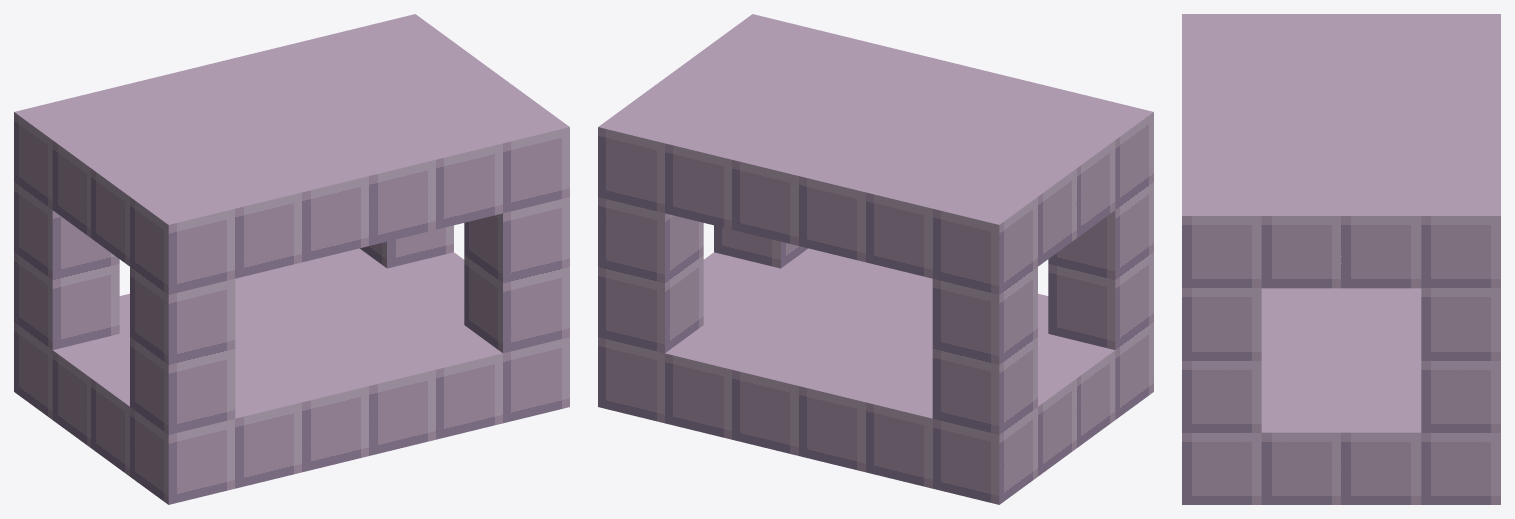
File: int_parlor_passageao.fezao.glb
3 views of the same model, side by side, from view 1: azimuth 30°, elevation 25°; view 2: azimuth 150°, elevation 25°; view 3: azimuth 270°, elevation 25° (orthographic). The views are drawn at different scales.
Parts seen in each view (by area): view 1: INT_PARLOR_PASSAGEAO; view 2: INT_PARLOR_PASSAGEAO; view 3: INT_PARLOR_PASSAGEAO.
Boxes of the visible parts, box(x1,y1,x2,y2) form: INT_PARLOR_PASSAGEAO: box(14, 14, 569, 504); INT_PARLOR_PASSAGEAO: box(598, 14, 1153, 504); INT_PARLOR_PASSAGEAO: box(1182, 14, 1500, 504).
Bounding box in the file's own units: 3 × 2 × 2.
Materials: 1 (1 with a texture image).
